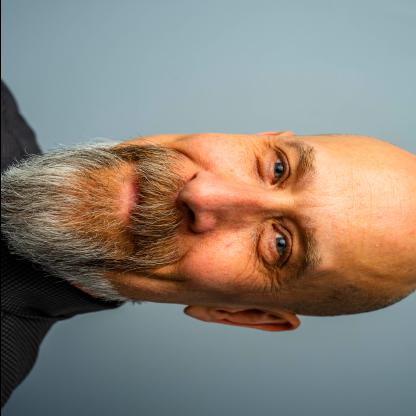Eye: (255, 220, 292, 273), (258, 142, 290, 189)
Mouth: (110, 161, 142, 242)
Nose: (176, 170, 269, 233)
